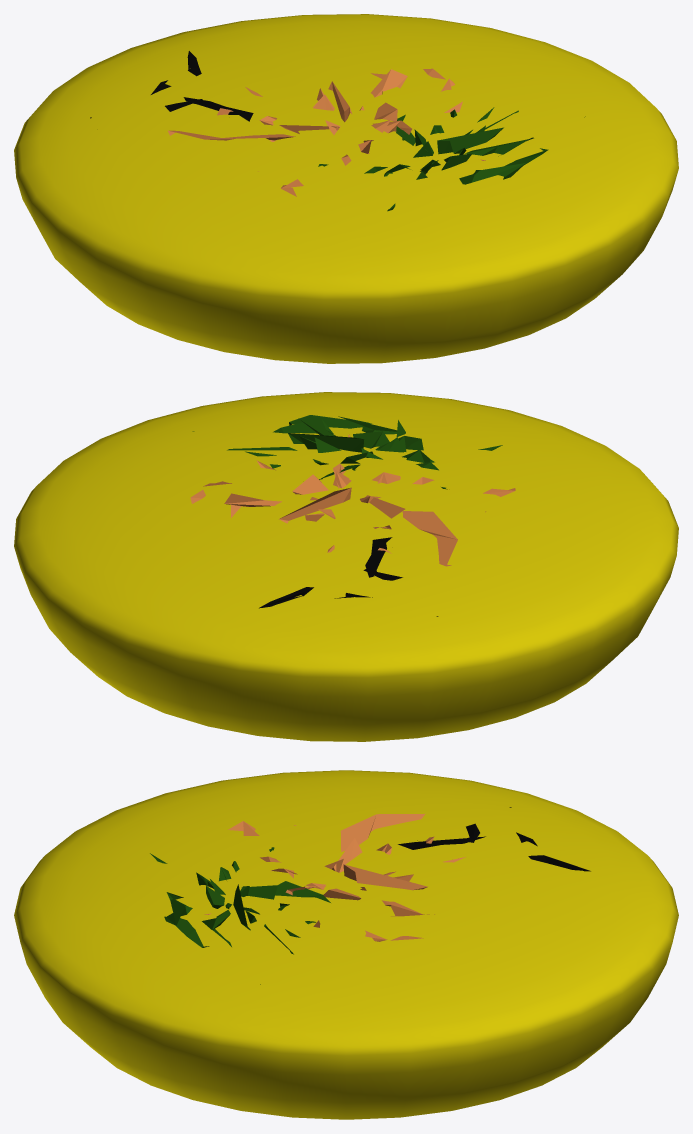
The model's file is stirredYolksWithSeasonings.fbx.
3 views of the same model, one above another, from view 1: azimuth 30°, elevation 25°; view 2: azimuth 150°, elevation 25°; view 3: azimuth 270°, elevation 25° (orthographic).
Parts seen in each view (by area): view 1: eggs, spices1, spices2, saltnpepper; view 2: eggs, spices1, spices2, saltnpepper; view 3: eggs, spices1, spices2, saltnpepper.
Boxes of the visible parts, x1,y1,x2,y2 form: eggs: (14, 14, 678, 363); spices1: (168, 68, 485, 196); spices2: (318, 107, 585, 211); saltnpepper: (90, 51, 253, 121); eggs: (14, 392, 678, 741); spices1: (190, 434, 515, 566); spices2: (192, 415, 502, 489); saltnpepper: (259, 537, 438, 616); eggs: (14, 770, 678, 1119); spices1: (204, 813, 465, 941); spices2: (150, 847, 330, 984); saltnpepper: (398, 807, 590, 871).
Bounding box in the file's own units: 400 × 123 × 400.
